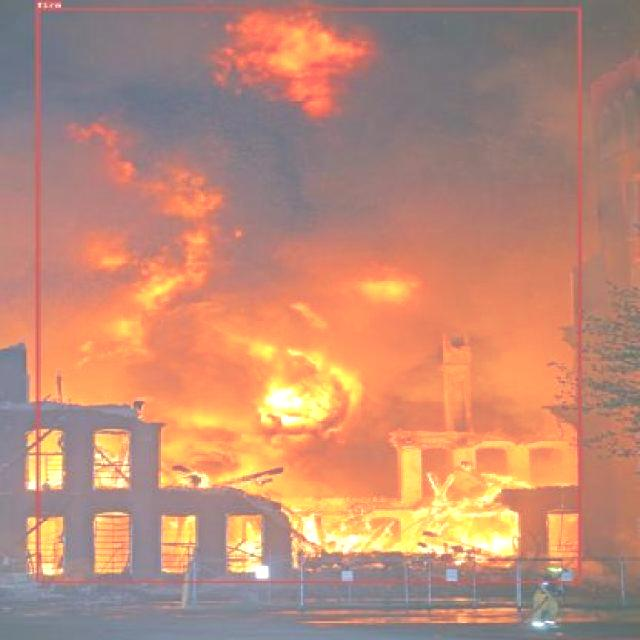fire: (35, 8, 580, 582)
